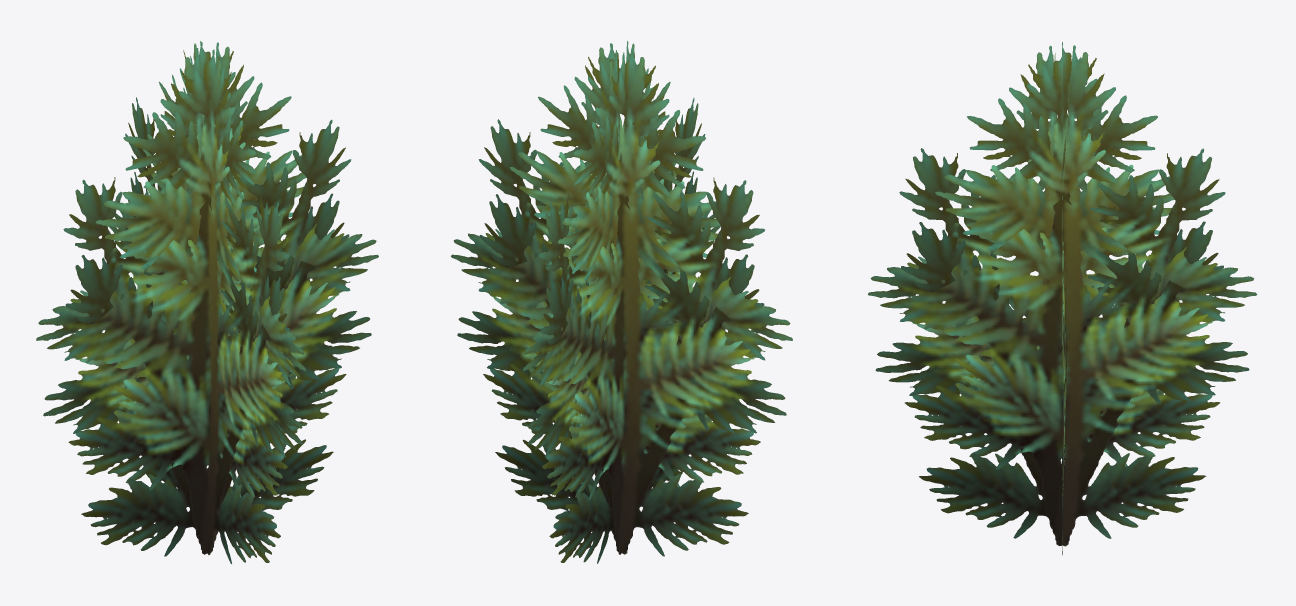
The model's file is HP3_pine2 1.fbx.
3 views of the same model, side by side, from view 1: azimuth 30°, elevation 25°; view 2: azimuth 150°, elevation 25°; view 3: azimuth 270°, elevation 25° (orthographic).
Parts seen in each view (by area): view 1: HP3_pine2; view 2: HP3_pine2; view 3: HP3_pine2.
Part boxes in pixels (<box>): HP3_pine2: <box>36,41,378,563</box>; HP3_pine2: <box>451,41,792,563</box>; HP3_pine2: <box>868,42,1257,555</box>.
Size of the model in its own units: 7.6 by 10.32 by 7.6.
